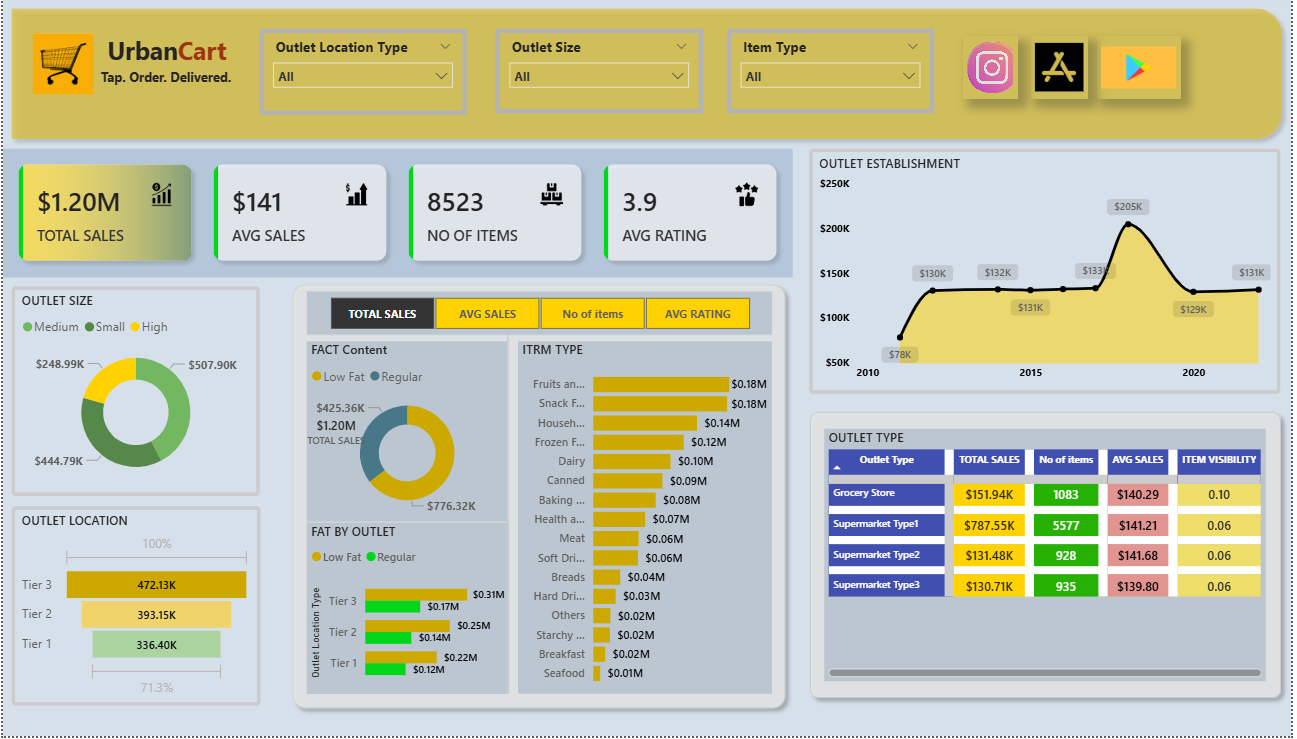

What the dashboard file says about the page in this screenshot:
{"tool":"powerbi","page":{"name":"Page 1","canvas":[1400,800],"ordinal":0},"visuals":[{"type":"shape","box":[0,0,1399.5,160.3],"z":0},{"type":"textbox","box":[97.8,31.3,160.3,69.3],"z":1000},{"type":"textbox","box":[88.3,69.3,178,34],"z":2000},{"type":"cardVisual","fields":{"Data":["BlinkIT Grocery Data.TOTAL SALES","BlinkIT Grocery Data.AVG SALES","BlinkIT Grocery Data.No of items","BlinkIT Grocery Data.AVG RATING"]},"box":[0,161.7,858.7,139.9],"z":3000},{"type":"shape","box":[305.6,300.3,553.6,478.6],"z":4000},{"type":"donutChart","title":"FACT Content","fields":{"Y":["BlinkIT Grocery Data.TOTAL SALES"],"Category":["BlinkIT Grocery Data.Item Fat Content"]},"box":[330.2,370.9,218.8,195.7],"z":5000},{"type":"slicer","fields":{"Values":["Metrics.Metrics"]},"box":[330.2,316.6,505.4,47.6],"z":6000},{"type":"cardVisual","fields":{"Data":["BlinkIT Grocery Data.TOTAL SALES"]},"box":[305.6,429,113.9,79.1],"z":7000},{"type":"clusteredBarChart","title":"FAT BY OUTLET","fields":{"Y":["BlinkIT Grocery Data.TOTAL SALES"],"Category":["BlinkIT Grocery Data.Outlet Location Type"],"Series":["BlinkIT Grocery Data.Item Fat Content"]},"box":[330.2,567.9,220.1,186.1],"z":8000},{"type":"shape","box":[534.9,364.6,26.8,390.1],"z":9000},{"type":"barChart","title":"ITRM TYPE","fields":{"Y":["BlinkIT Grocery Data.TOTAL SALES"],"Category":["BlinkIT Grocery Data.Item Type"]},"box":[559.8,370.9,275.8,383.2],"z":10000},{"type":"shape","box":[868.2,438.9,529.9,328.8],"z":11000},{"type":"lineChart","title":"OUTLET ESTABLISHMENT","fields":{"Category":["BlinkIT Grocery Data.Outlet Establishment Year"],"Y":["BlinkIT Grocery Data.TOTAL SALES"]},"box":[876.4,161.7,512.2,266.3],"z":12000},{"type":"donutChart","title":"OUTLET SIZE","fields":{"Y":["BlinkIT Grocery Data.TOTAL SALES"],"Category":["BlinkIT Grocery Data.Outlet Size"]},"box":[9.4,311,269.4,227.9],"z":13000},{"type":"funnel","title":"OUTLET LOCATION","fields":{"Y":["Sum(BlinkIT Grocery Data.Sales)"],"Category":["BlinkIT Grocery Data.Outlet Location Type"]},"box":[9.4,550.9,270.8,217.2],"z":14000},{"type":"pivotTable","title":"OUTLET TYPE","fields":{"Rows":["BlinkIT Grocery Data.Outlet Type"],"Values":["BlinkIT Grocery Data.TOTAL SALES","BlinkIT Grocery Data.No of items","BlinkIT Grocery Data.AVG SALES","Avg(BlinkIT Grocery Data.Item Visibility)"]},"box":[892.7,466,479.6,274.5],"z":15000},{"type":"slicer","fields":{"Values":["BlinkIT Grocery Data.Outlet Location Type"]},"box":[278.5,31.3,225.5,93.8],"z":16000},{"type":"slicer","fields":{"Values":["BlinkIT Grocery Data.Outlet Size"]},"box":[535.3,31.3,225.5,92.4],"z":17000},{"type":"slicer","fields":{"Values":["BlinkIT Grocery Data.Item Type"]},"box":[786.7,31.3,225.5,92.4],"z":18000},{"type":"image","box":[1043.5,39.4,59.8,67.9],"z":19000},{"type":"image","box":[24.5,31.3,82.9,76.1],"z":20000},{"type":"image","box":[1116.9,39.4,62.5,67.9],"z":21000},{"type":"image","box":[1188.9,39.4,91,67.9],"z":22000}]}

Visuals, with their boxes in screenshot pixels (x1, y1, x2, y2), scaled from the page's 1400x800 canvas onto the 1297x739 screenshot:
shape: 0:0:1296:148
textbox: 91:29:239:93
textbox: 82:64:247:95
cardVisual - BlinkIT Grocery Data.TOTAL SALES x BlinkIT Grocery Data.AVG SALES: 0:149:796:279
shape: 283:277:796:720
"FACT Content" donutChart: 306:343:509:523
slicer - Metrics.Metrics: 306:292:774:336
cardVisual - BlinkIT Grocery Data.TOTAL SALES: 283:396:389:469
"FAT BY OUTLET" clusteredBarChart: 306:525:510:697
shape: 496:337:520:697
"ITRM TYPE" barChart: 519:343:774:697
shape: 804:405:1295:709
"OUTLET ESTABLISHMENT" lineChart: 812:149:1286:395
"OUTLET SIZE" donutChart: 9:287:258:498
"OUTLET LOCATION" funnel: 9:509:260:710
"OUTLET TYPE" pivotTable: 827:430:1271:684
slicer - BlinkIT Grocery Data.Outlet Location Type: 258:29:467:116
slicer - BlinkIT Grocery Data.Outlet Size: 496:29:705:114
slicer - BlinkIT Grocery Data.Item Type: 729:29:938:114
image: 967:36:1022:99
image: 23:29:99:99
image: 1035:36:1093:99
image: 1101:36:1186:99
